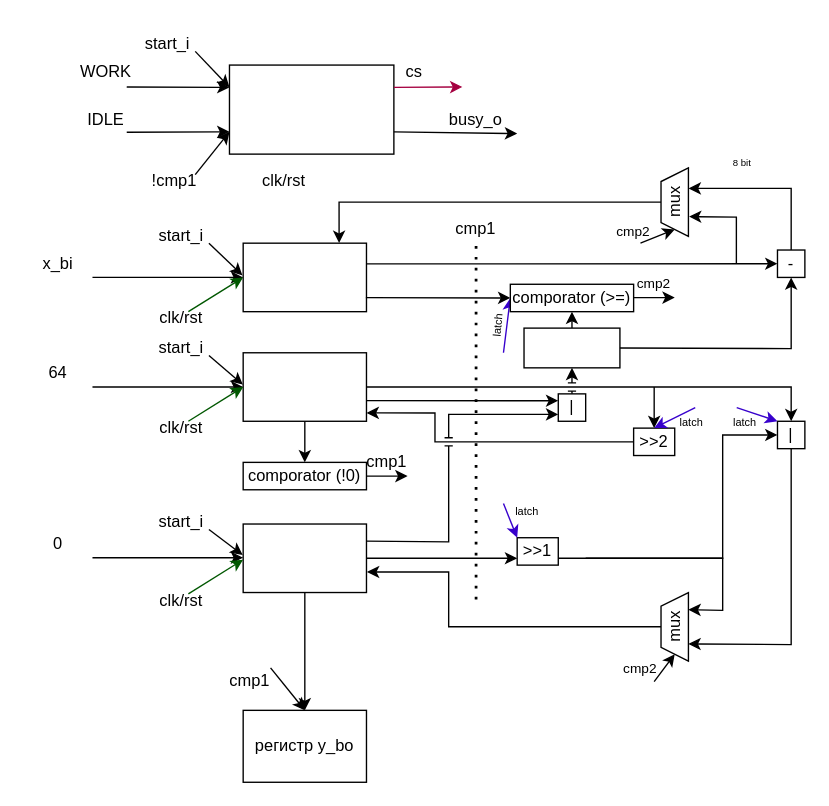
This 829x806 diagram has some shape labels left out. The box of each missing label's shape, as (x1, y1, x2, y2) in pixels:
Control unit (IDLE, WORK): (228, 64, 394, 154)
регистр B: (523, 327, 620, 368)
регистр M: (242, 351, 366, 421)
регистр X: (242, 242, 366, 312)
регистр Y: (242, 523, 366, 593)
